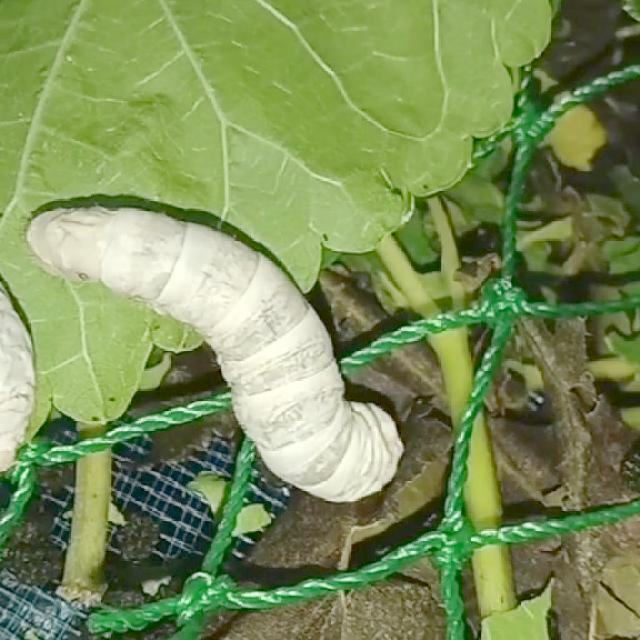Grasserie: (17, 132, 425, 507)
